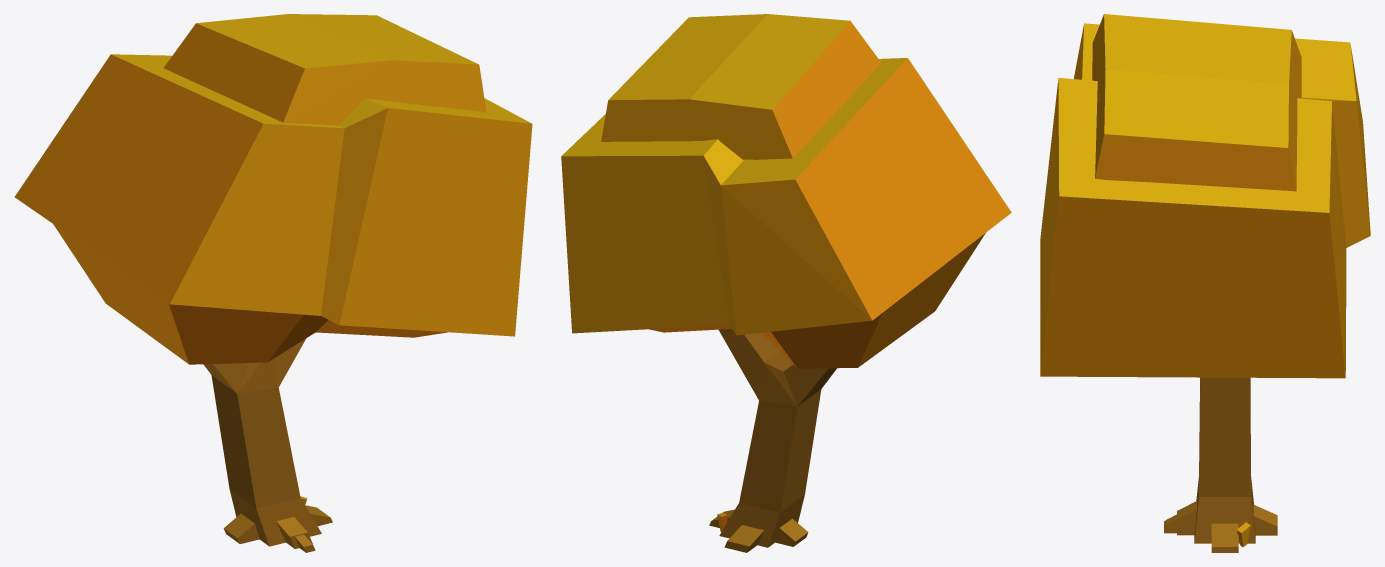
Rendered from SF_Env_Tree_Fall_01.fbx.
The picture shows the model from 3 angles, left to right: view 1: azimuth 30°, elevation 25°; view 2: azimuth 150°, elevation 25°; view 3: azimuth 270°, elevation 25°; orthographic projection. The views are drawn at different scales.
Parts seen in each view (by area): view 1: SF_Env_Tree_Fall_01; view 2: SF_Env_Tree_Fall_01; view 3: SF_Env_Tree_Fall_01.
Part boxes in pixels (left/top/right/bottom): SF_Env_Tree_Fall_01: left=14, top=14, right=532, bottom=552; SF_Env_Tree_Fall_01: left=561, top=14, right=1011, bottom=552; SF_Env_Tree_Fall_01: left=1040, top=14, right=1370, bottom=552.
Size of the model in its own units: 5.23 by 7.14 by 4.27.
